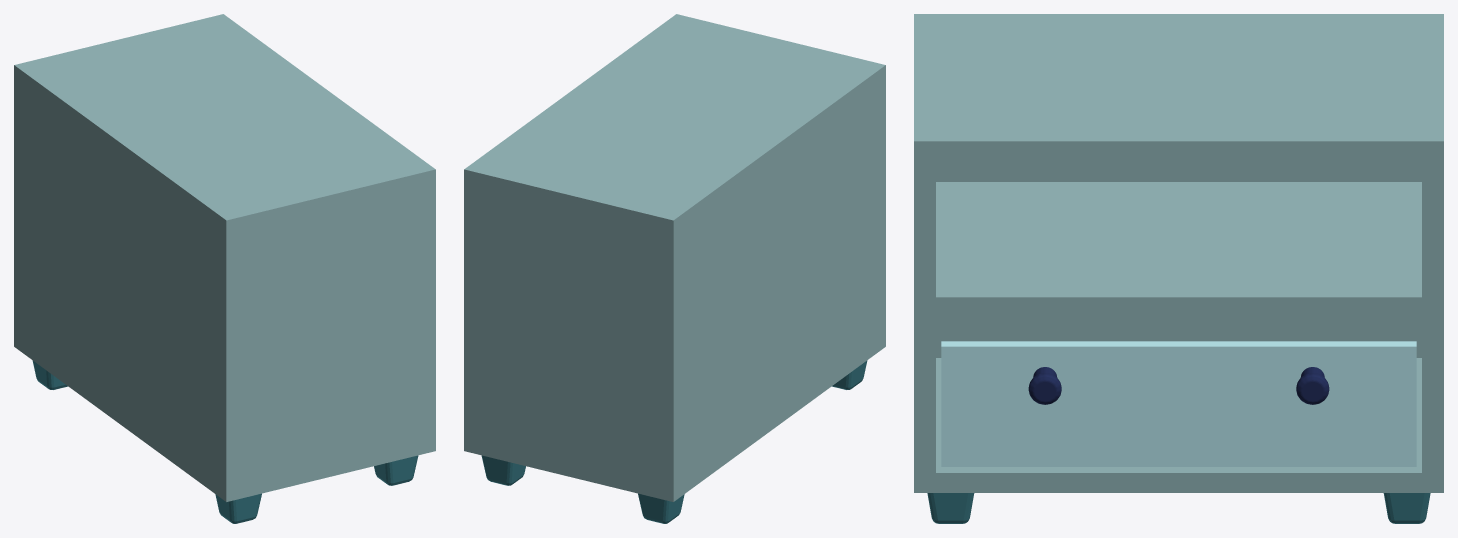
Rendered from Drawer.fbx.
3 renders of one model, left to right at view 1: azimuth 30°, elevation 25°; view 2: azimuth 150°, elevation 25°; view 3: azimuth 270°, elevation 25°, orthographic. The views are drawn at different scales.
Visible parts, largest first — view 1: Cube.001; view 2: Cube.001; view 3: Cube.001, Cylinder.
Part boxes in pixels (box(x1,y1,x2,y2)): Cube.001: box(14, 14, 435, 523); Cube.001: box(464, 14, 885, 523); Cube.001: box(914, 14, 1443, 523); Cylinder: box(941, 341, 1416, 466).
Size of the model in its own units: 1288 by 814 by 1054.
